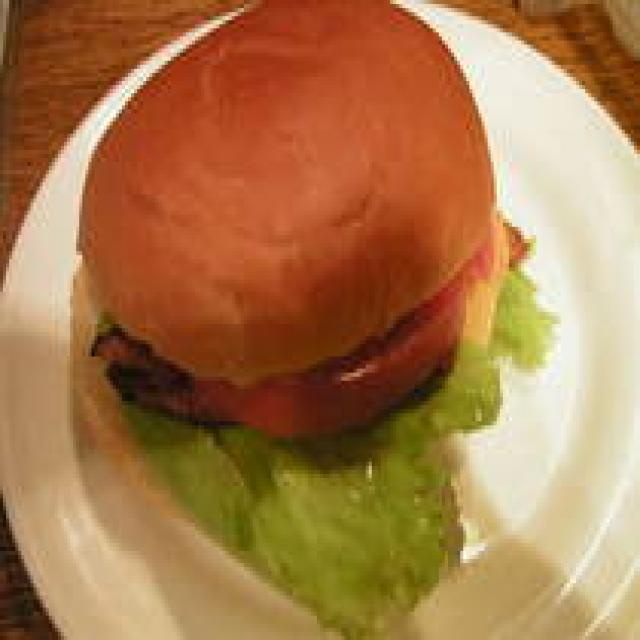Hamburger: (57, 0, 522, 612)
